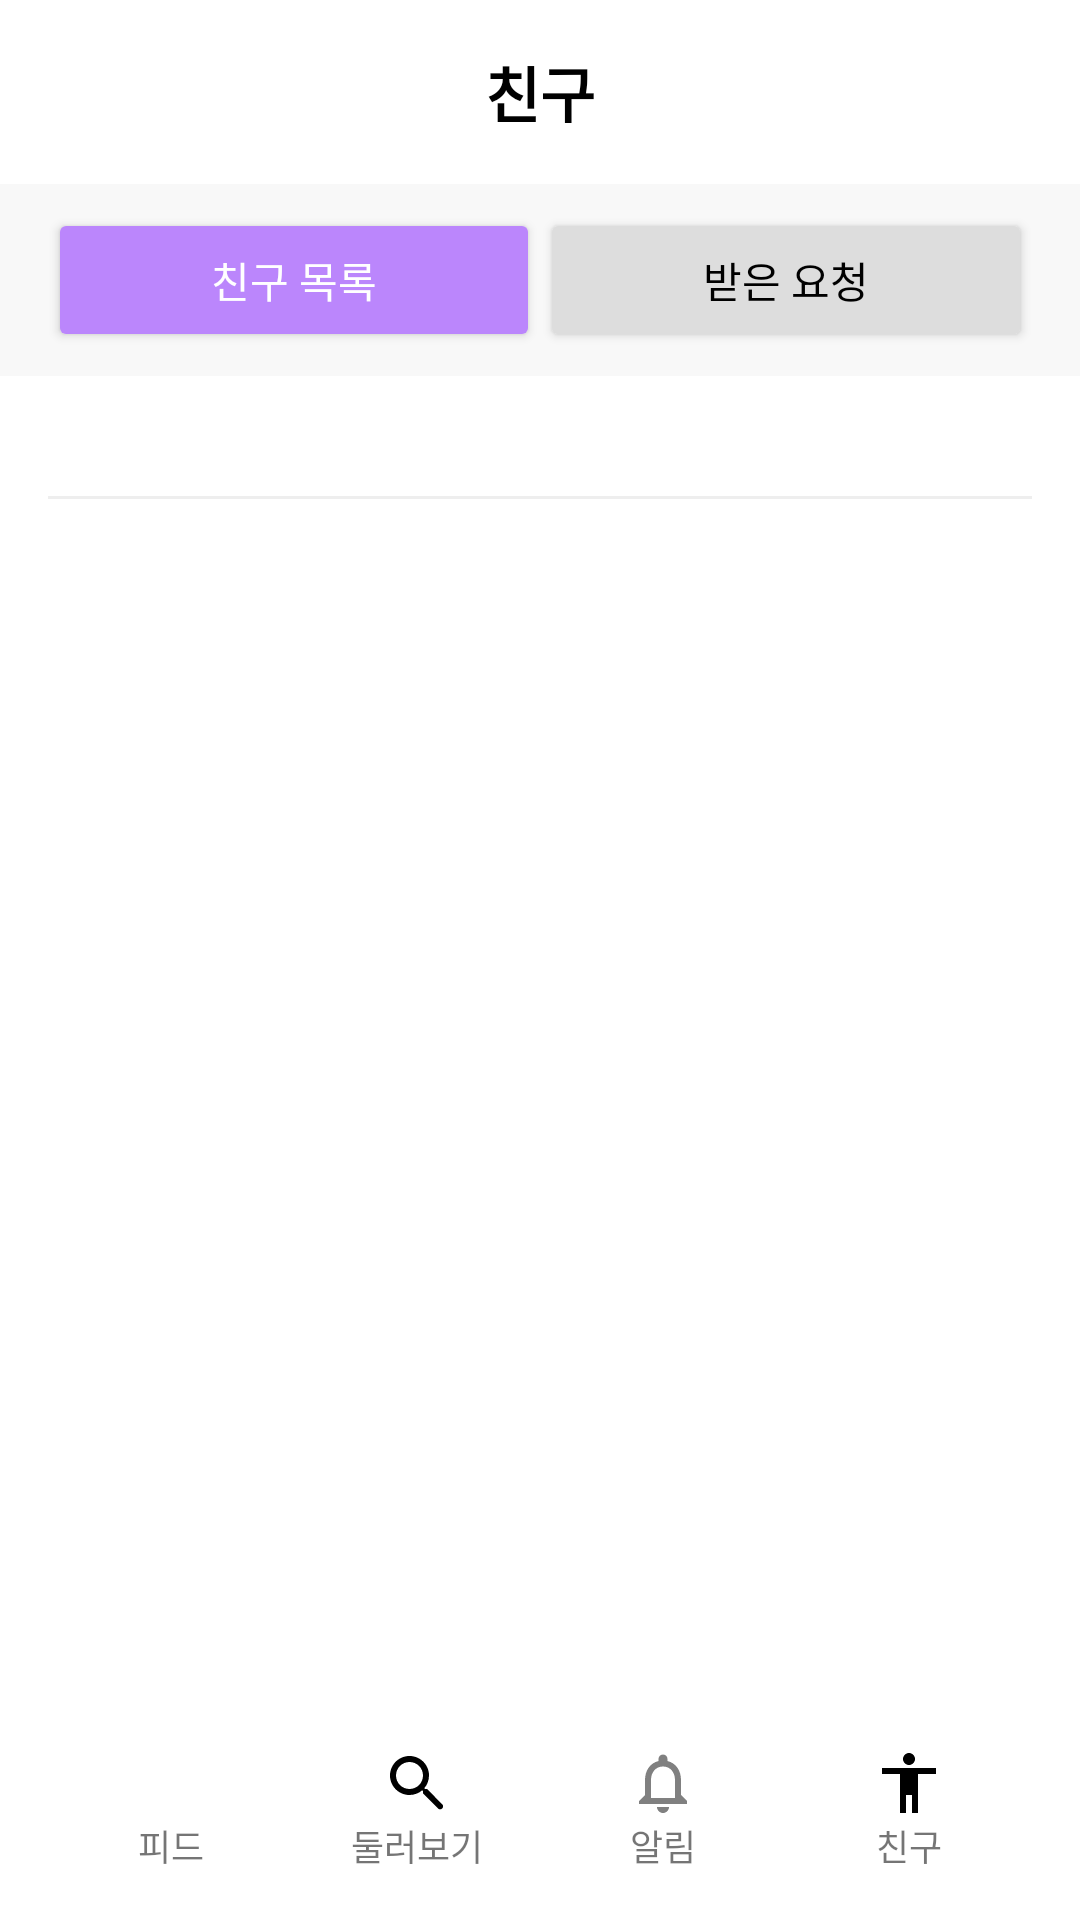

Icon click points for this 1080×1920 phone screenshot, format point (x, y):
person: point (909, 1783)
search: point (416, 1783)
